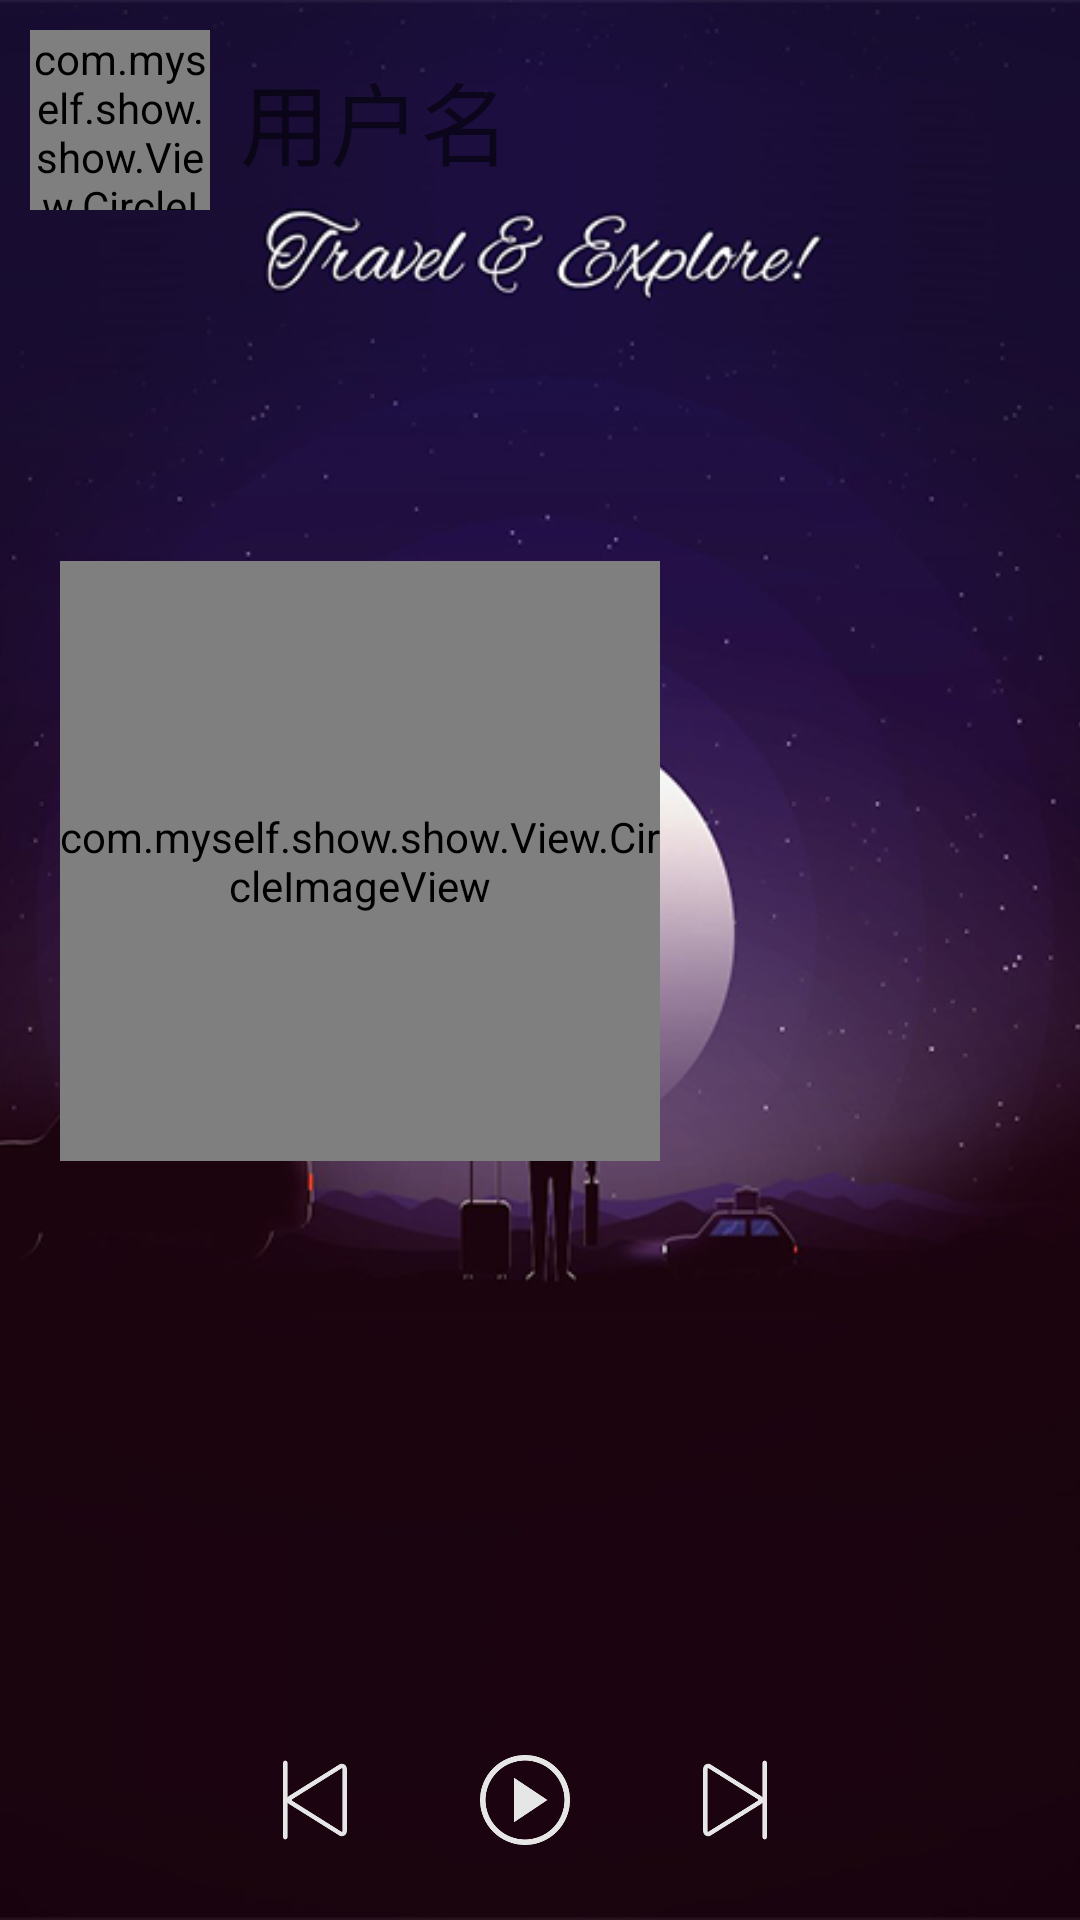

Screen size 1080px×1920px. Icon name, then its box in pixels as (x1, y1, x2, y2):
before: (283, 1760, 347, 1840)
next: (703, 1760, 767, 1840)
play: (480, 1755, 570, 1845)
